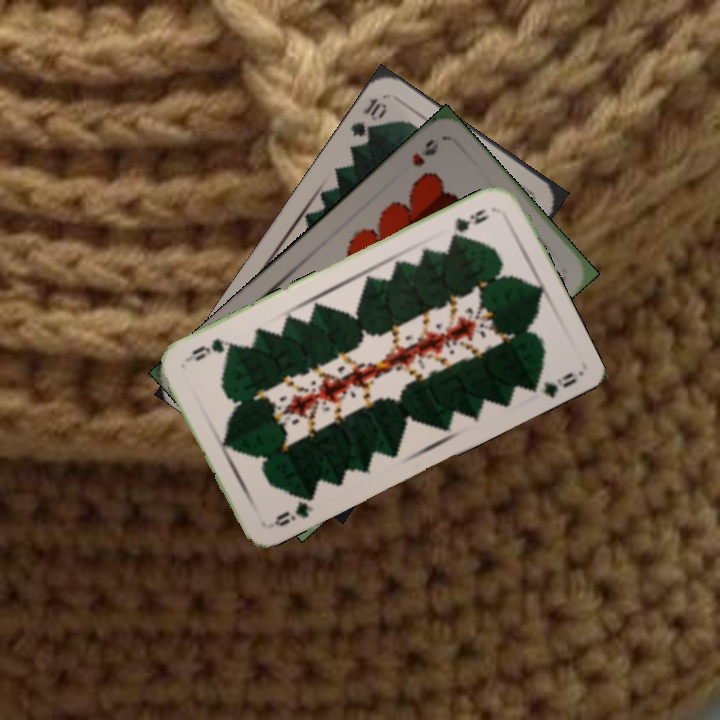G10: (346, 93, 390, 141)
G9: (270, 491, 316, 529), (447, 204, 492, 241)
H9: (408, 135, 441, 169)
